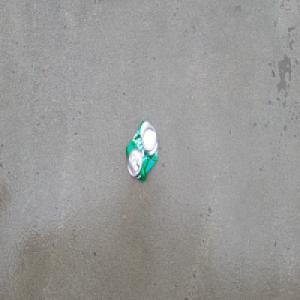SodaCan: (125, 119, 159, 182)
